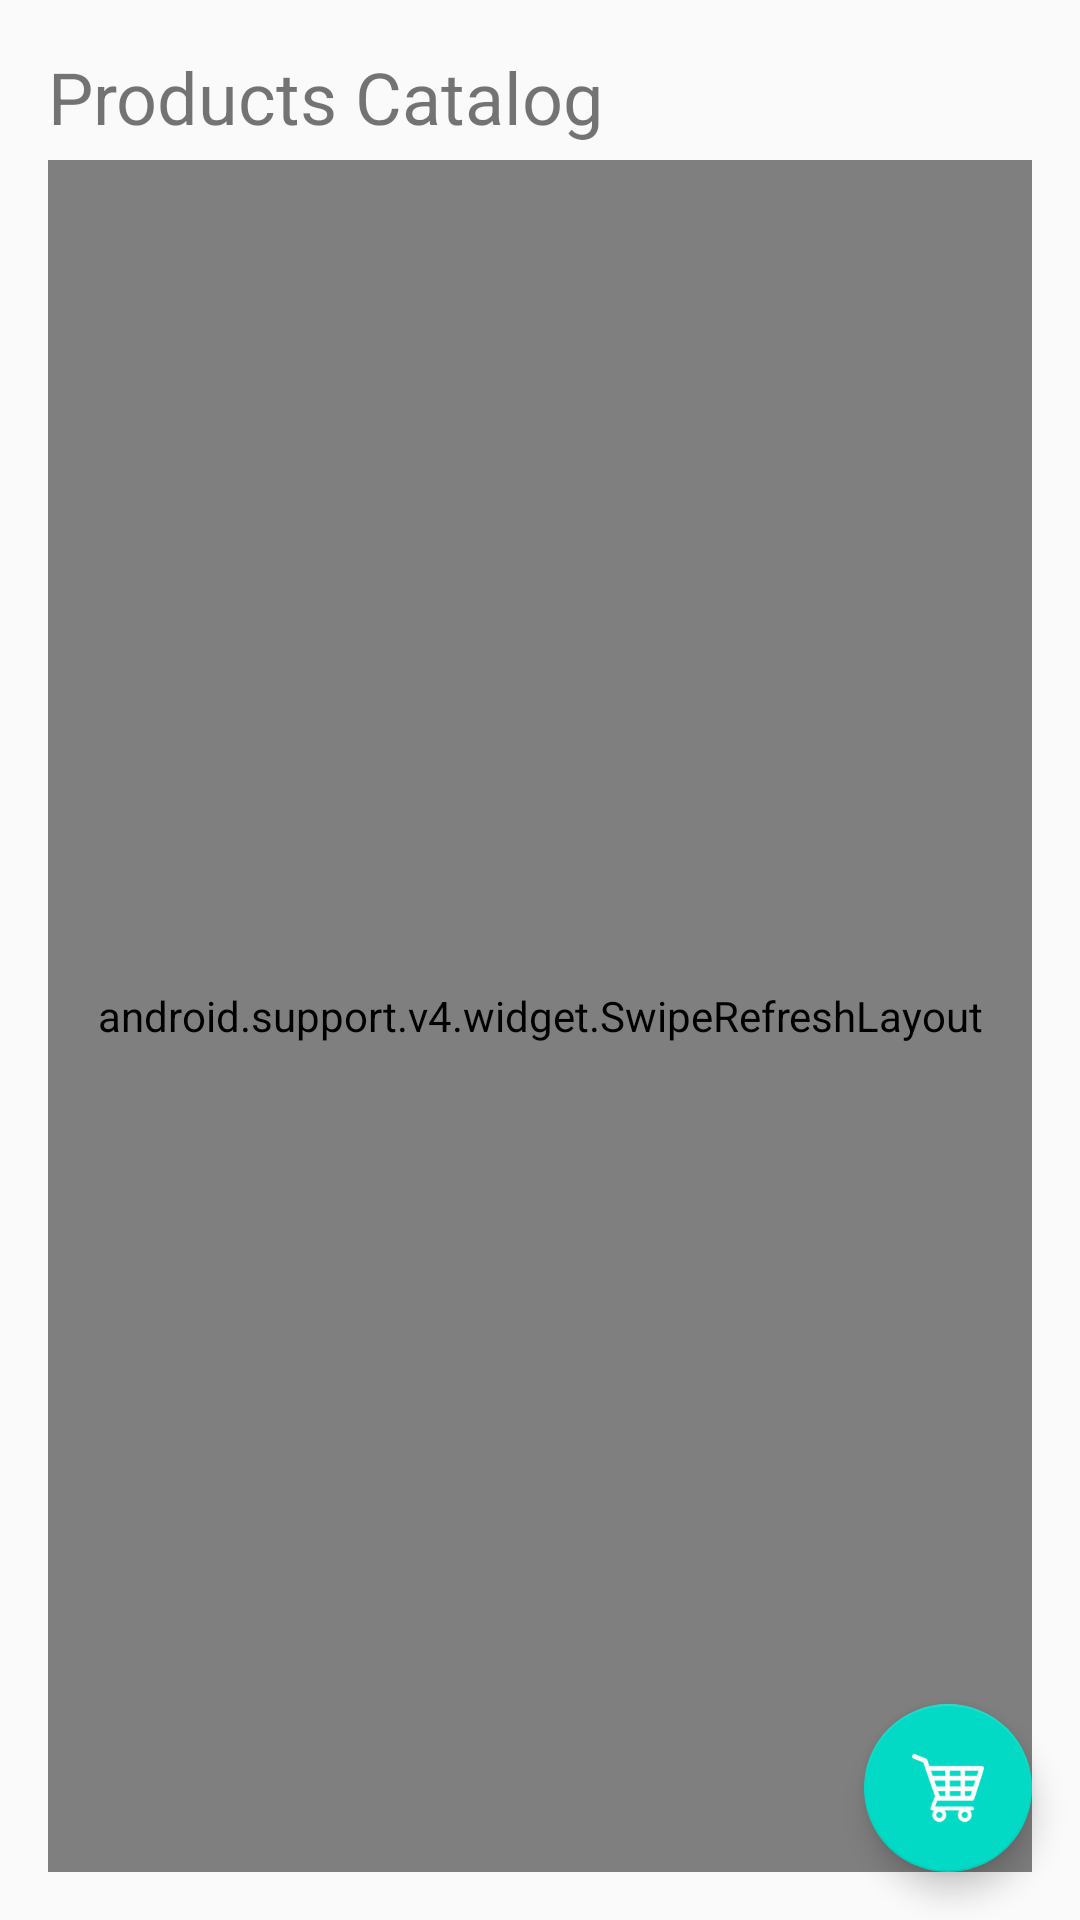

Screen size 1080 × 1920. Icon name, then its center in pixels as point (x, y):
cart: point (948, 1788)
